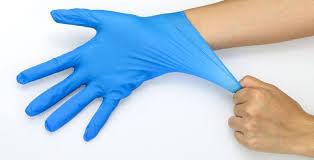Glove: (17, 9, 241, 140)
